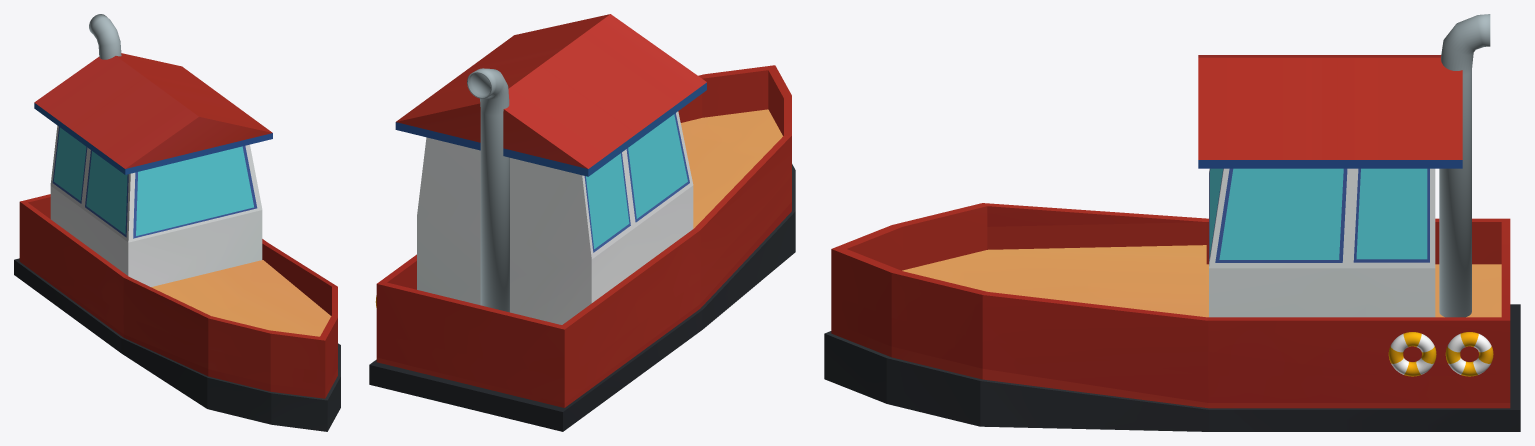
The model's file is enemyShip.fbx.
3 renders of one model, left to right at view 1: azimuth 30°, elevation 25°; view 2: azimuth 150°, elevation 25°; view 3: azimuth 270°, elevation 25°, orthographic. The views are drawn at different scales.
Parts seen in each view (by area): view 1: Cube, Cylinder; view 2: Cube, Cylinder; view 3: Cube, Cylinder, Torus.001.
Boxes of the visible parts, x1,y1,x2,y2 form: Cube: (14, 53, 340, 431); Cylinder: (89, 14, 121, 59); Cube: (369, 14, 795, 431); Cylinder: (467, 68, 509, 312); Cube: (824, 55, 1520, 431); Cylinder: (1439, 14, 1490, 317); Torus.001: (1388, 332, 1493, 376).
Size of the model in its own units: 429 by 664 by 1151.
Materials: 1 (1 with a texture image).
